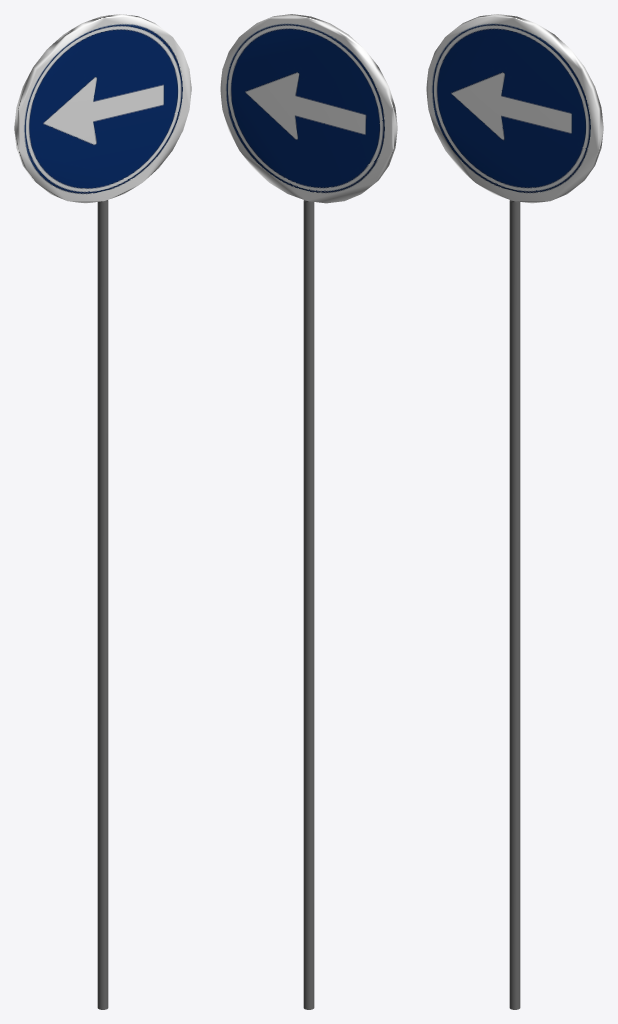
The model's file is tabela.dae.
3 renders of one model, left to right at view 1: azimuth 30°, elevation 25°; view 2: azimuth 150°, elevation 25°; view 3: azimuth 330°, elevation 25°, orthographic.
Parts seen in each view (by area): view 1: Yuvarlak İşaret; view 2: Yuvarlak İşaret; view 3: Yuvarlak İşaret.
Boxes of the visible parts, x1=… form: Yuvarlak İşaret: x1=14, y1=14, x2=191, y2=1009; Yuvarlak İşaret: x1=220, y1=14, x2=397, y2=1009; Yuvarlak İşaret: x1=426, y1=14, x2=603, y2=1009.
Size of the model in its own units: 0.45 by 0.0242 by 2.45.
2 materials, 1 textured.
